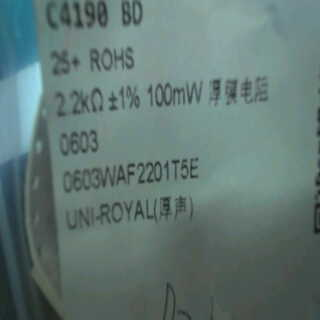2.2kR: (49, 84, 106, 122)
